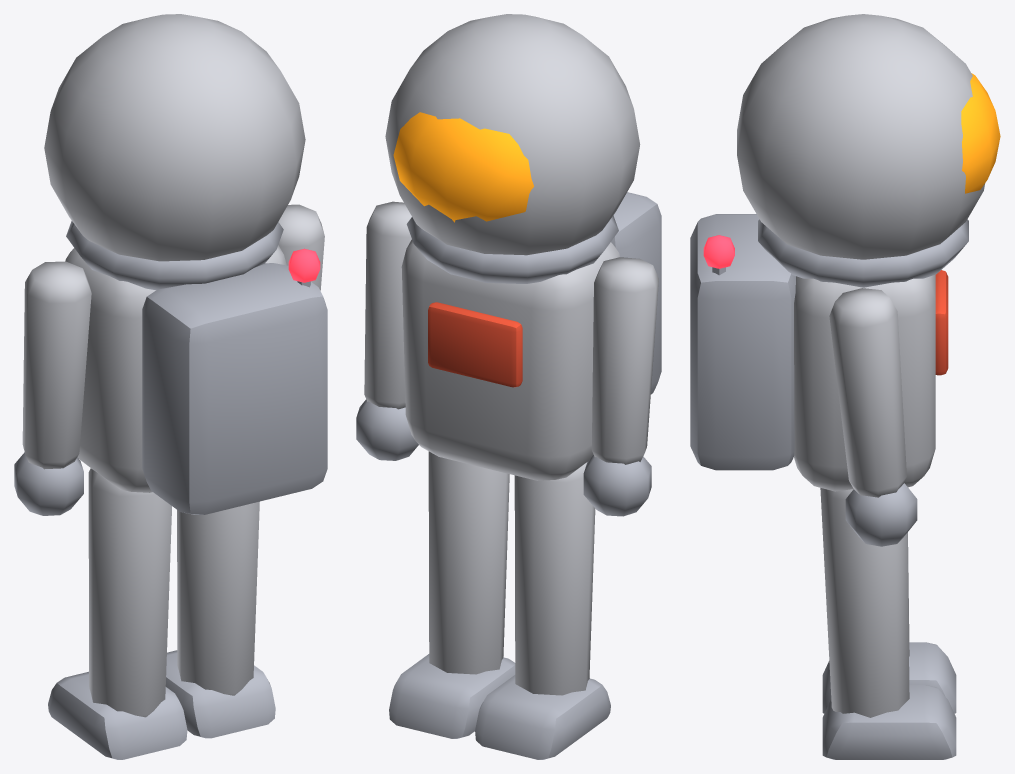
Rendered from astronaut.glb.
3 renders of one model, left to right at view 1: azimuth 30°, elevation 25°; view 2: azimuth 150°, elevation 25°; view 3: azimuth 270°, elevation 25°, orthographic. The views are drawn at different scales.
Parts seen in each view (by area): view 1: Body, LegLMesh, LegRMesh, ArmLMesh, ArmRMesh; view 2: Body, LegLMesh, LegRMesh, ArmLMesh, ArmRMesh; view 3: Body, LegRMesh, ArmRMesh, LegLMesh.
Part boxes in pixels (bbox=[...]): Body: bbox=[44, 14, 327, 514]; LegLMesh: bbox=[48, 468, 187, 759]; LegRMesh: bbox=[165, 501, 275, 738]; ArmLMesh: bbox=[14, 261, 91, 515]; ArmRMesh: bbox=[278, 204, 324, 290]; Body: bbox=[385, 14, 661, 480]; LegLMesh: bbox=[475, 462, 610, 759]; LegRMesh: bbox=[389, 451, 515, 738]; ArmLMesh: bbox=[583, 257, 658, 516]; ArmRMesh: bbox=[356, 201, 418, 460]; Body: bbox=[690, 14, 1000, 491]; LegRMesh: bbox=[820, 488, 956, 759]; ArmRMesh: bbox=[829, 288, 917, 546]; LegLMesh: bbox=[822, 532, 956, 713].
Size of the model in its own units: 0.9388 by 2.14 by 0.86.
